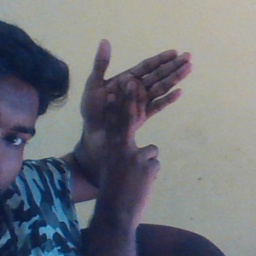N: (68, 36, 195, 187)
